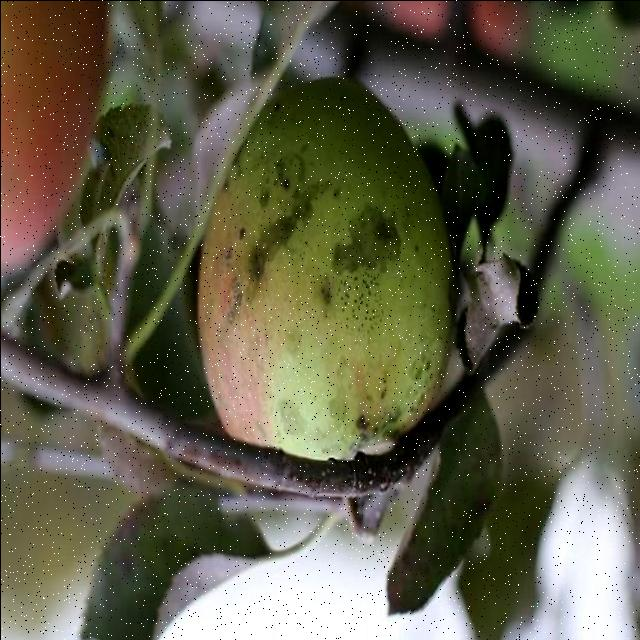BLOTCH: (165, 77, 483, 510)
